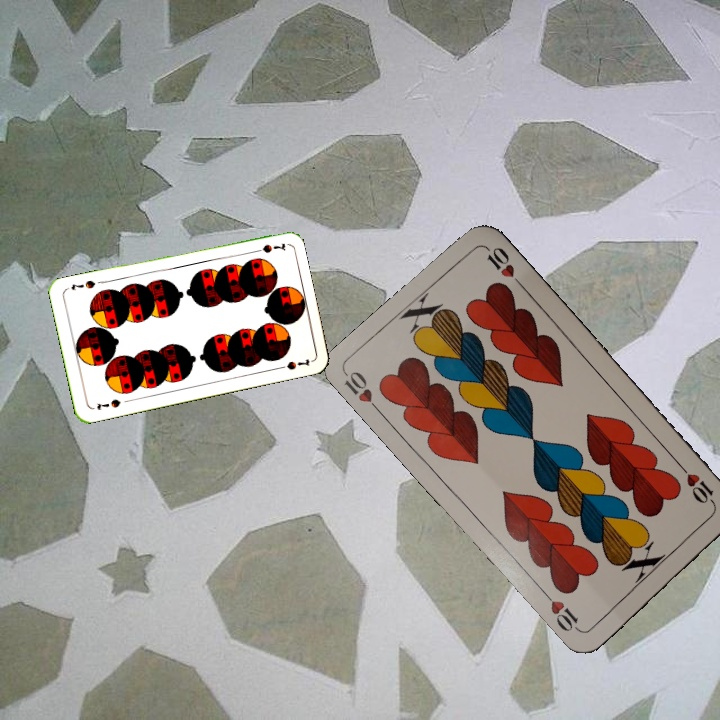H10: (340, 366, 386, 418), (675, 461, 719, 510)
S7: (247, 239, 288, 256), (93, 395, 123, 412)
